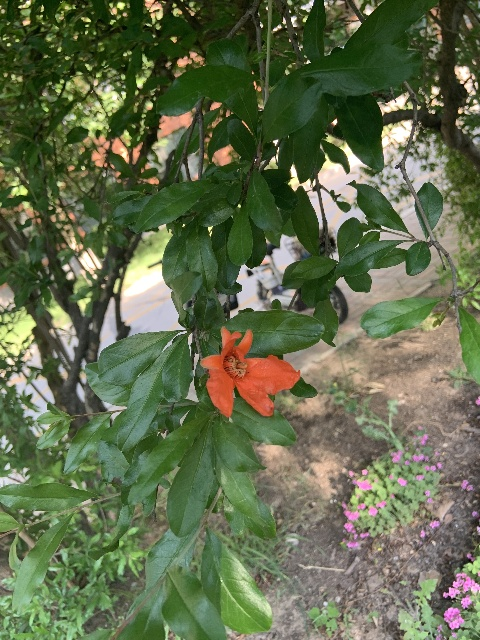flower: (200, 326, 300, 417)
